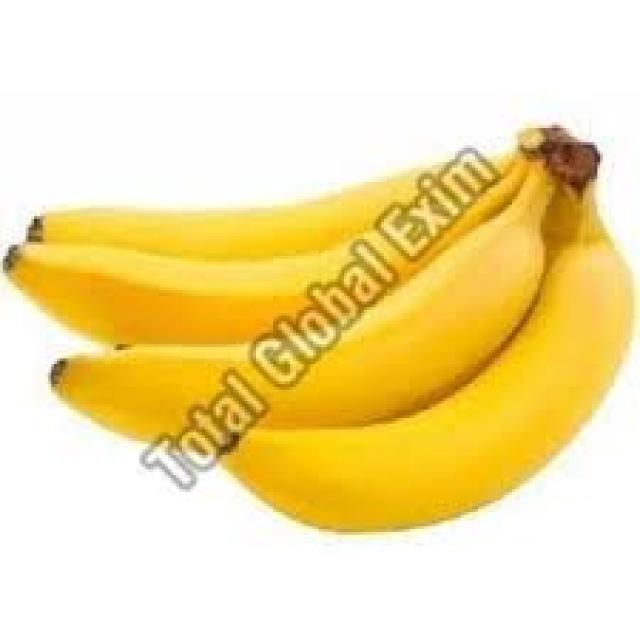banana: (0, 122, 637, 535)
